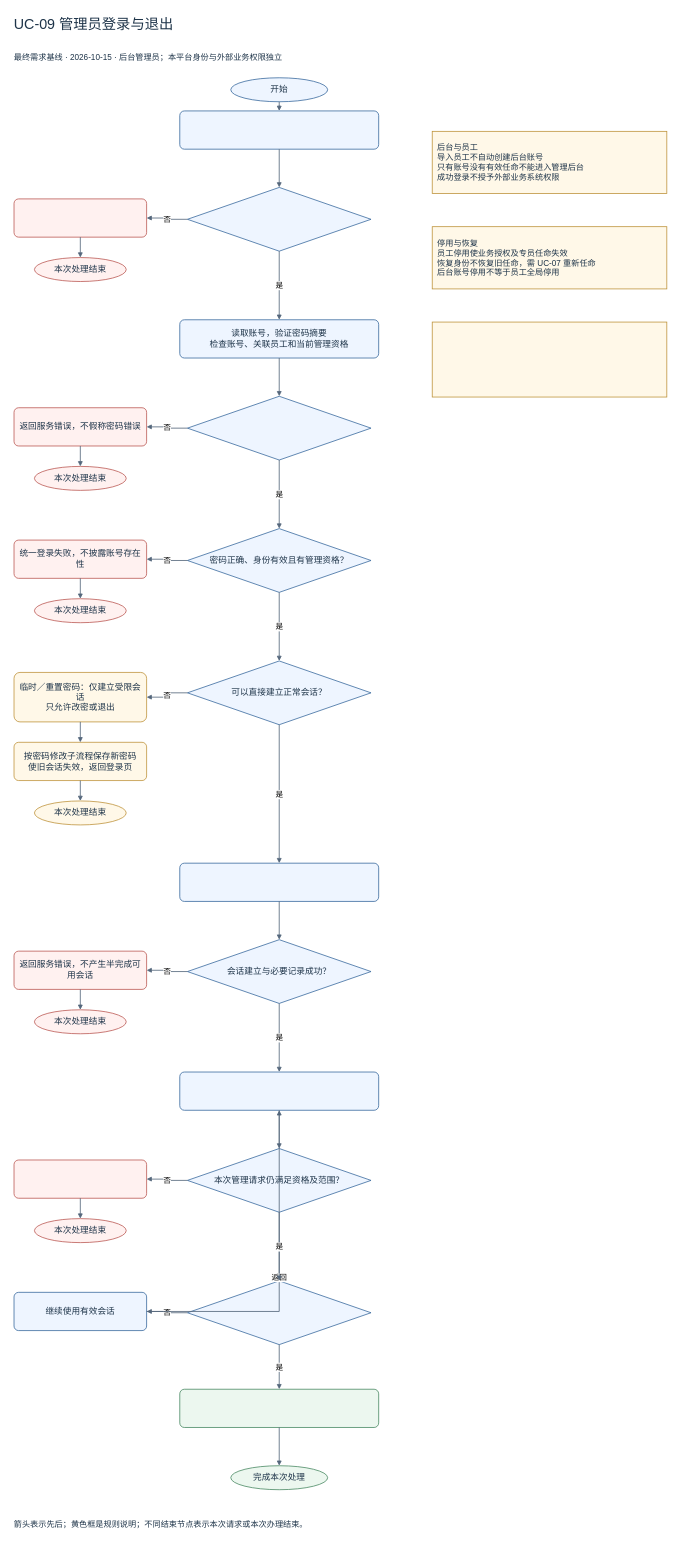
Some shapes in this 691 by 1544 pixel diagram are drawn without their labels. The box of each missing label's shape, as (x1, y1, x2, y2) in pixels:
会话与密码 普通退出只结束当前会话 改密／重置使所有旧会话失效 临时密码改密前不能访问管理接口 配套创建、改密、重置见其他页签: (432, 321, 667, 397)
填写后台账号与密码，提交登录: (179, 110, 379, 149)
建立正常会话并返回身份及当前范围: (179, 863, 379, 902)
拒绝该请求，旧页面不能绕过 资格失效后停止管理: (13, 1159, 147, 1198)
提示参数错误，不尝试默认账号: (13, 198, 147, 237)
撤销当前会话，清理客户端状态 返回登录页；重复退出保持已退出: (179, 1389, 379, 1428)
登录参数合法？: (187, 187, 371, 251)
管理员选择退出？: (187, 1280, 371, 1345)
访问管理页面／接口 每次按最新身份及目标范围检查: (179, 1071, 379, 1110)
身份读取与验证服务正常？: (187, 396, 371, 460)
